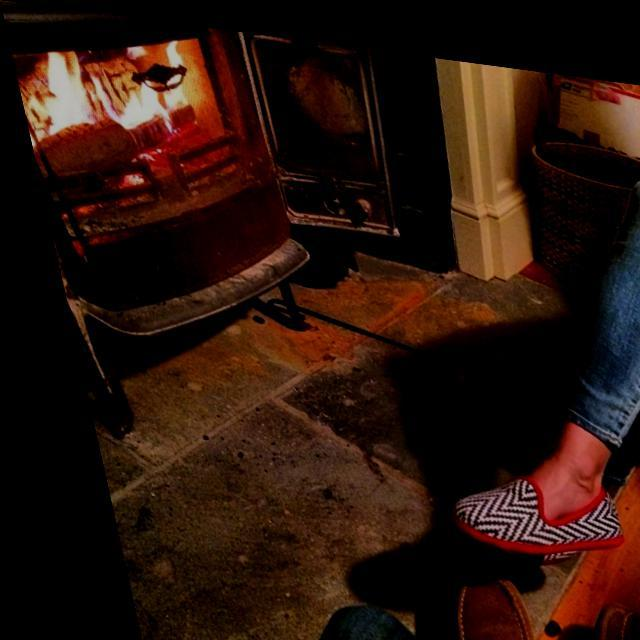Fire: (1, 0, 216, 158)
